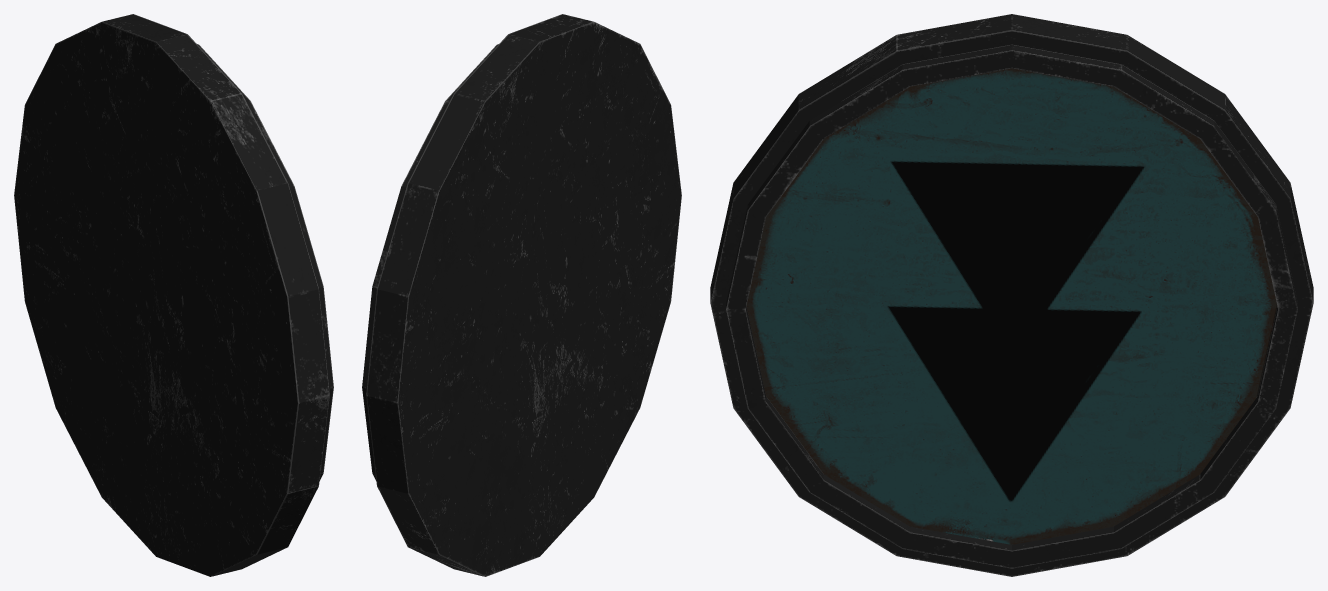
Rendered from RewindSymbolBlue.gltf.
The picture shows the model from 3 angles, left to right: view 1: azimuth 30°, elevation 25°; view 2: azimuth 150°, elevation 25°; view 3: azimuth 270°, elevation 25°; orthographic projection. The views are drawn at different scales.
Visible parts, largest first — view 1: Cylinder.001; view 2: Cylinder.001; view 3: Cylinder.001.
Boxes of the visible parts, <box> form: Cylinder.001: <box>14,14,333,576</box>; Cylinder.001: <box>362,14,681,576</box>; Cylinder.001: <box>710,14,1313,576</box>.
Size of the model in its own units: 0.1755 by 2 by 2.
Materials: 1 (1 with a texture image).
